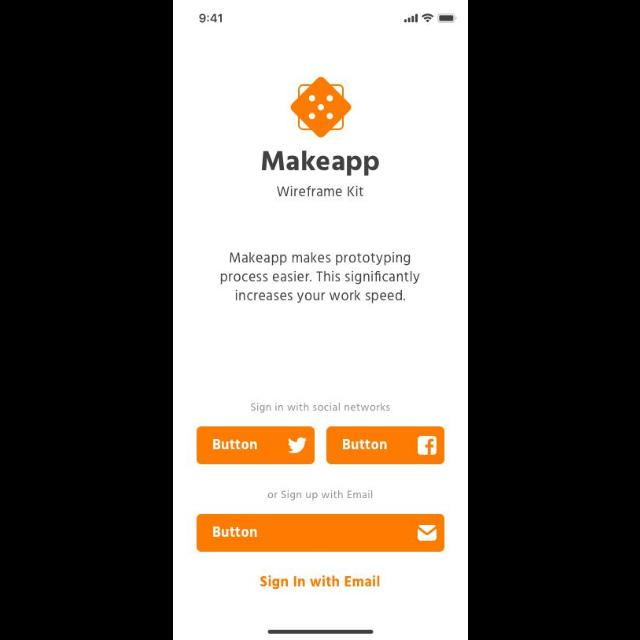image: (290, 77, 352, 139)
text: (220, 252, 420, 304), (261, 151, 379, 177), (258, 575, 379, 589), (250, 402, 390, 413), (268, 490, 372, 502), (275, 186, 363, 198)
textbutton: (196, 514, 444, 552), (197, 427, 315, 465), (326, 426, 444, 464)
uppertaskbar: (198, 13, 456, 24)
